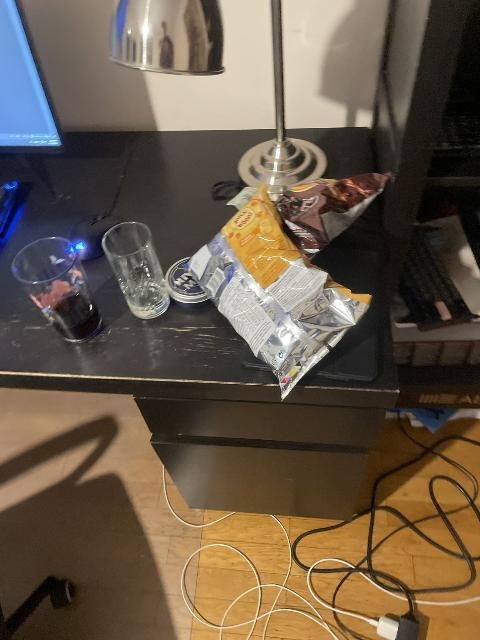Chio Hula Hoops Cheese 70g: (199, 189, 376, 395)
Lays Beef Grilled Ribs 125g: (274, 174, 387, 255)
